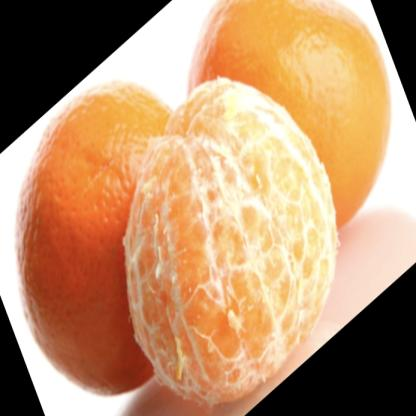fresh: (17, 1, 392, 402)
